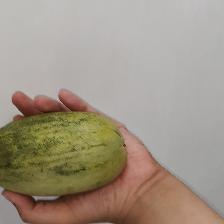gua: (15, 125, 115, 187)
